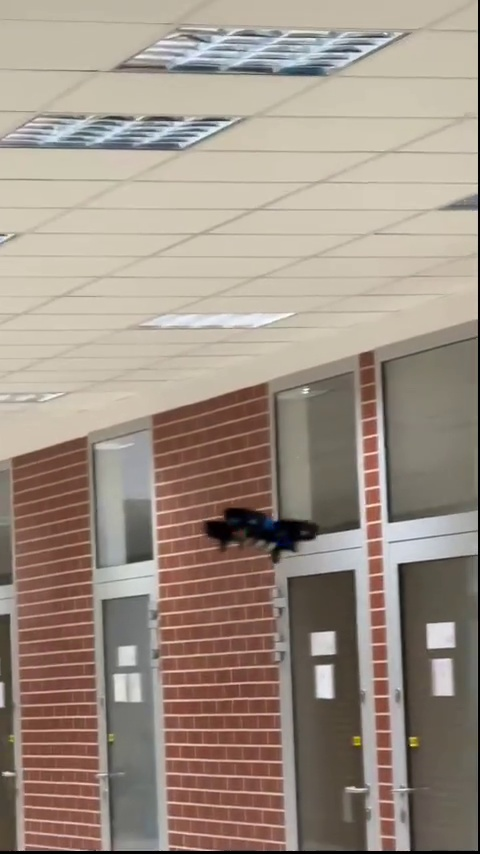drone: (204, 503, 315, 560)
